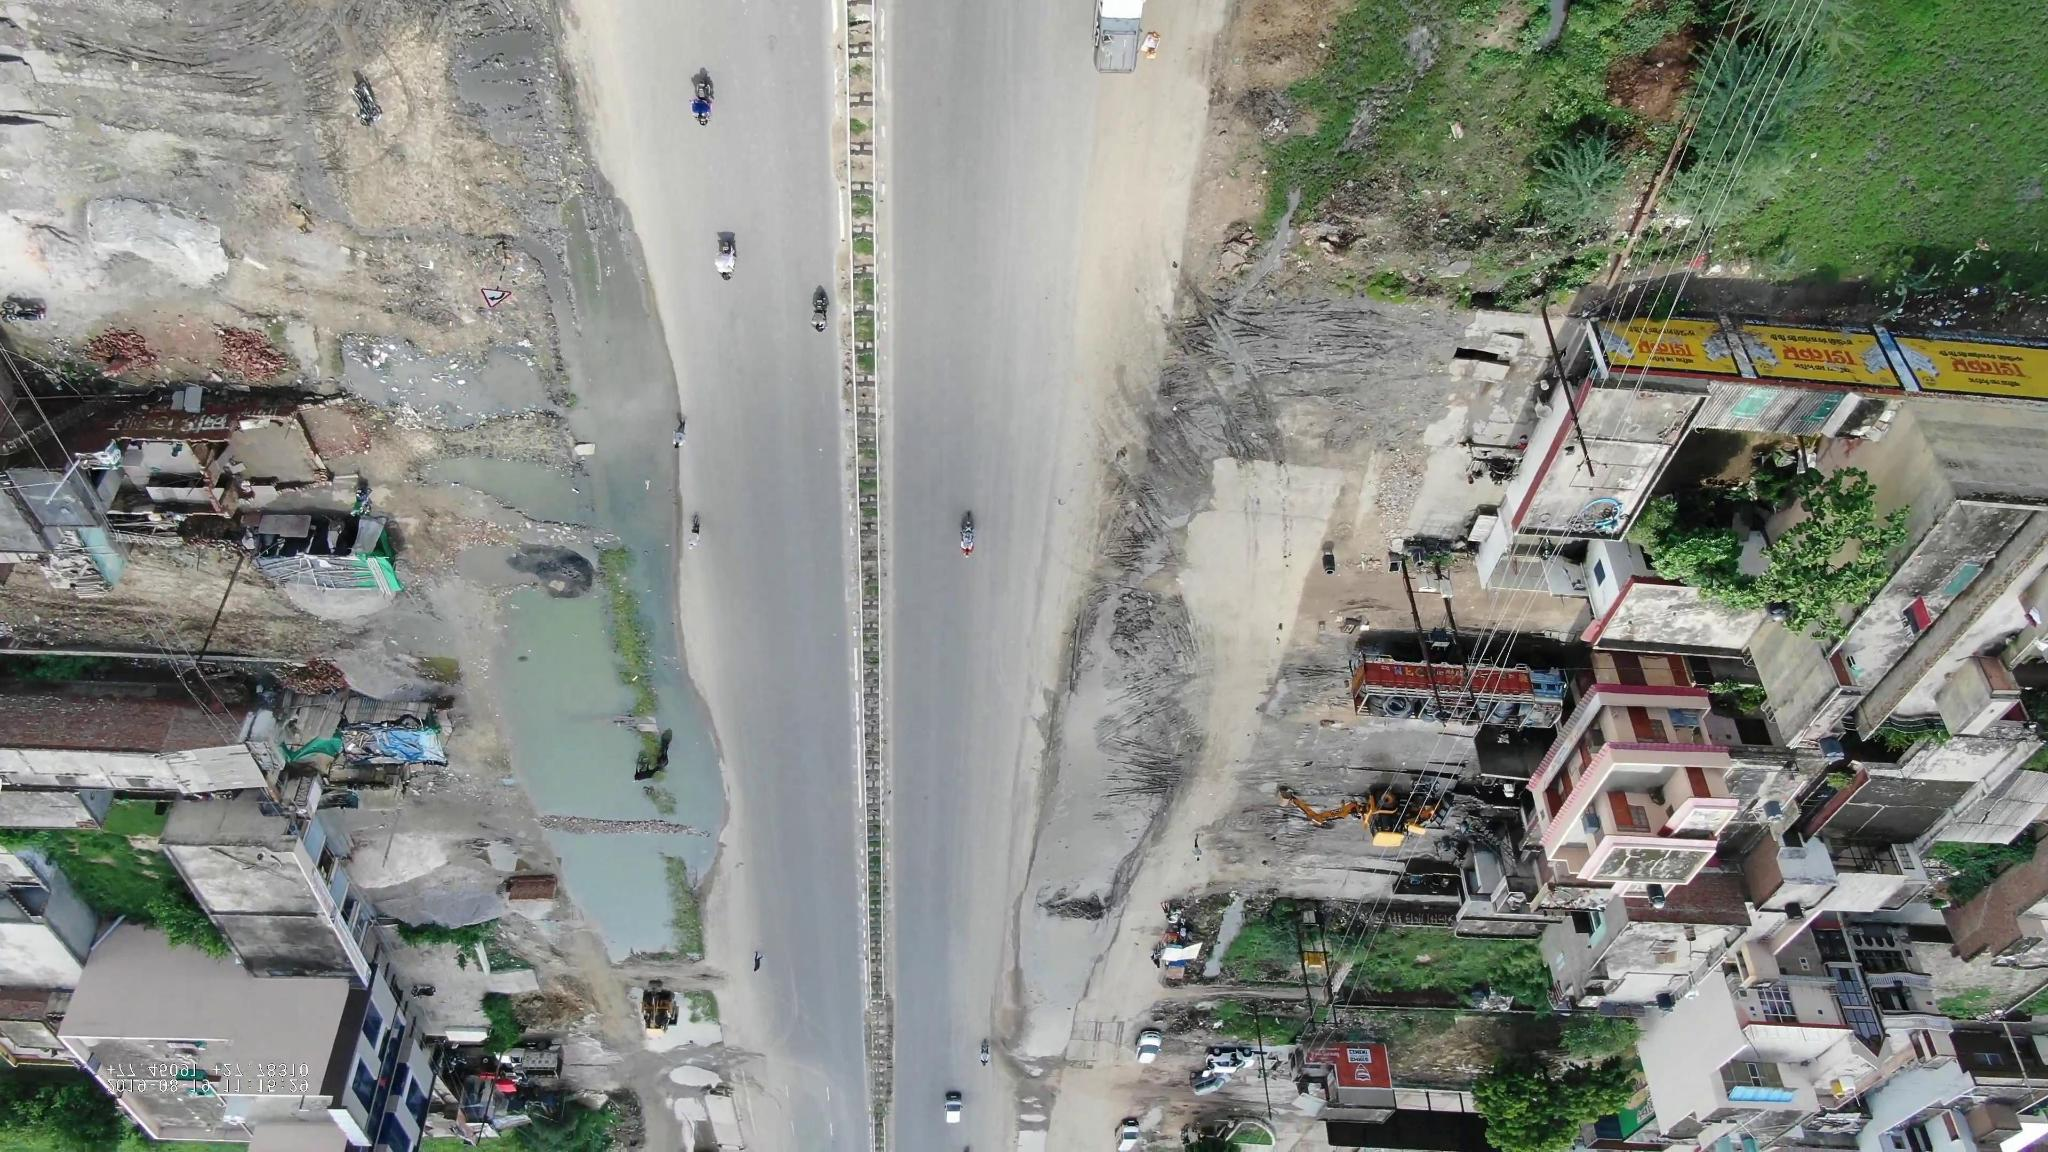Muddy_road: (1075, 399, 1160, 709)
Waterlogging: (587, 339, 729, 904), (1009, 726, 1113, 1007)
